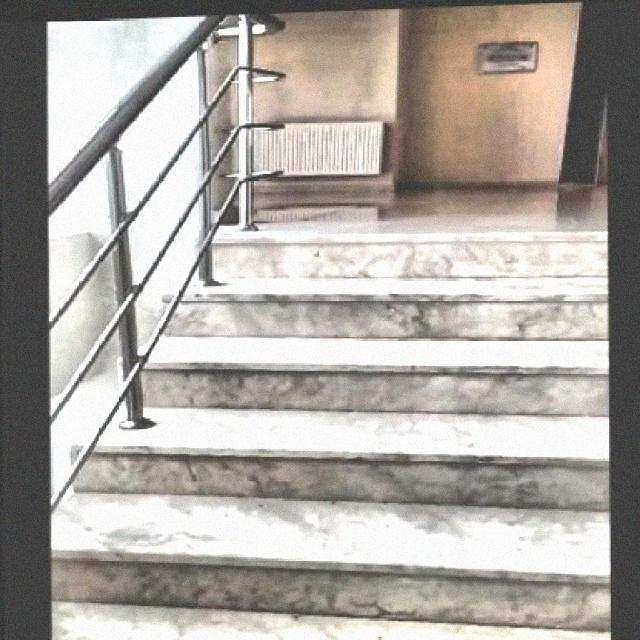stair: (19, 220, 612, 638)
